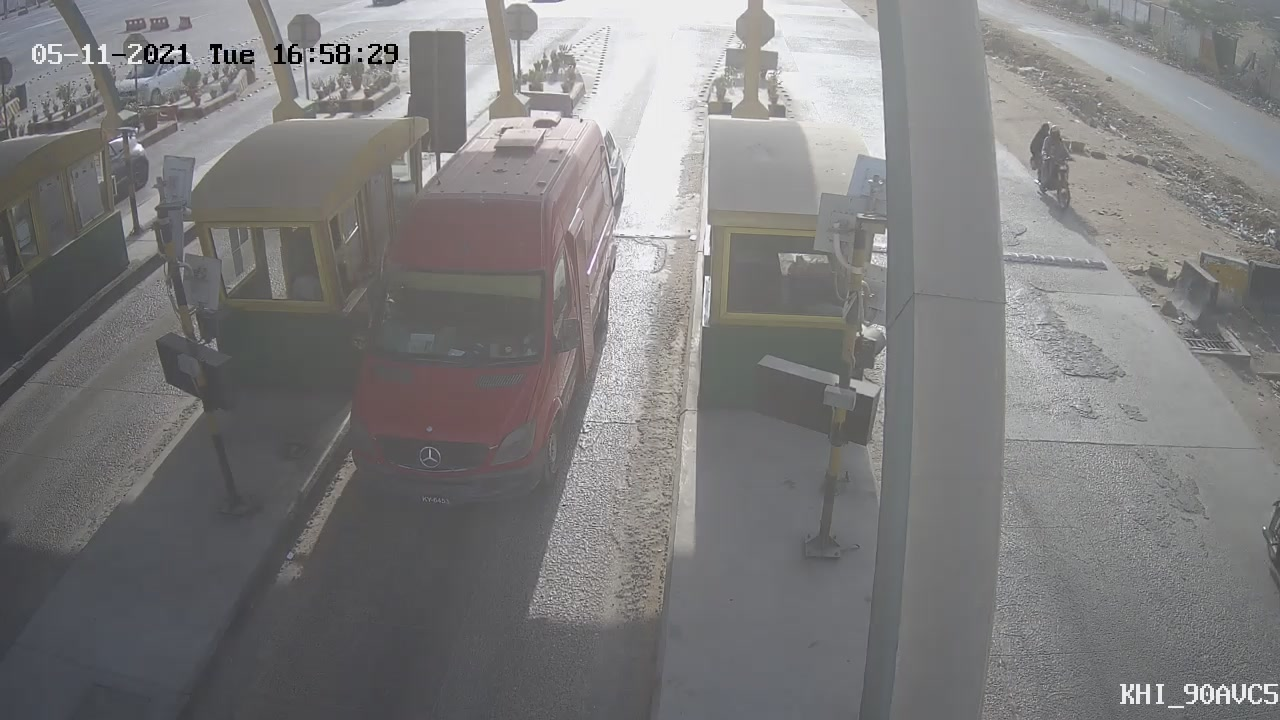F2: (305, 82, 643, 538)
